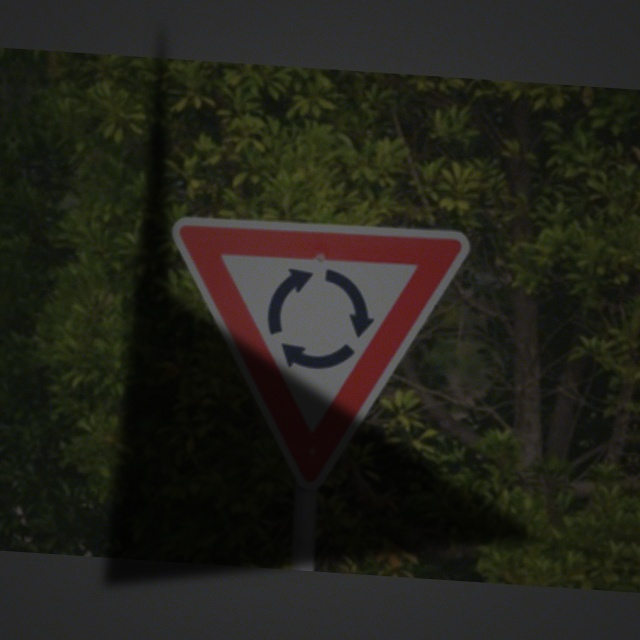Round_About: (161, 203, 468, 494)
